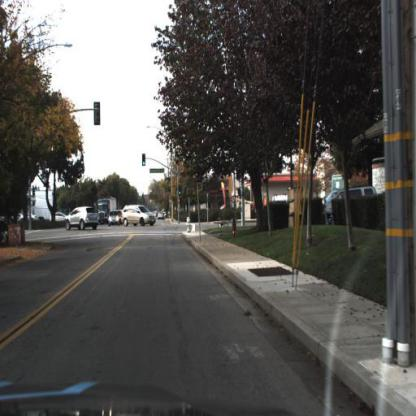car: (319, 183, 382, 221), (325, 186, 377, 226), (62, 205, 100, 236), (121, 204, 158, 229), (107, 207, 124, 232)
trafficLight-Green: (142, 153, 148, 168), (178, 184, 183, 199)
truck: (96, 196, 118, 228)
